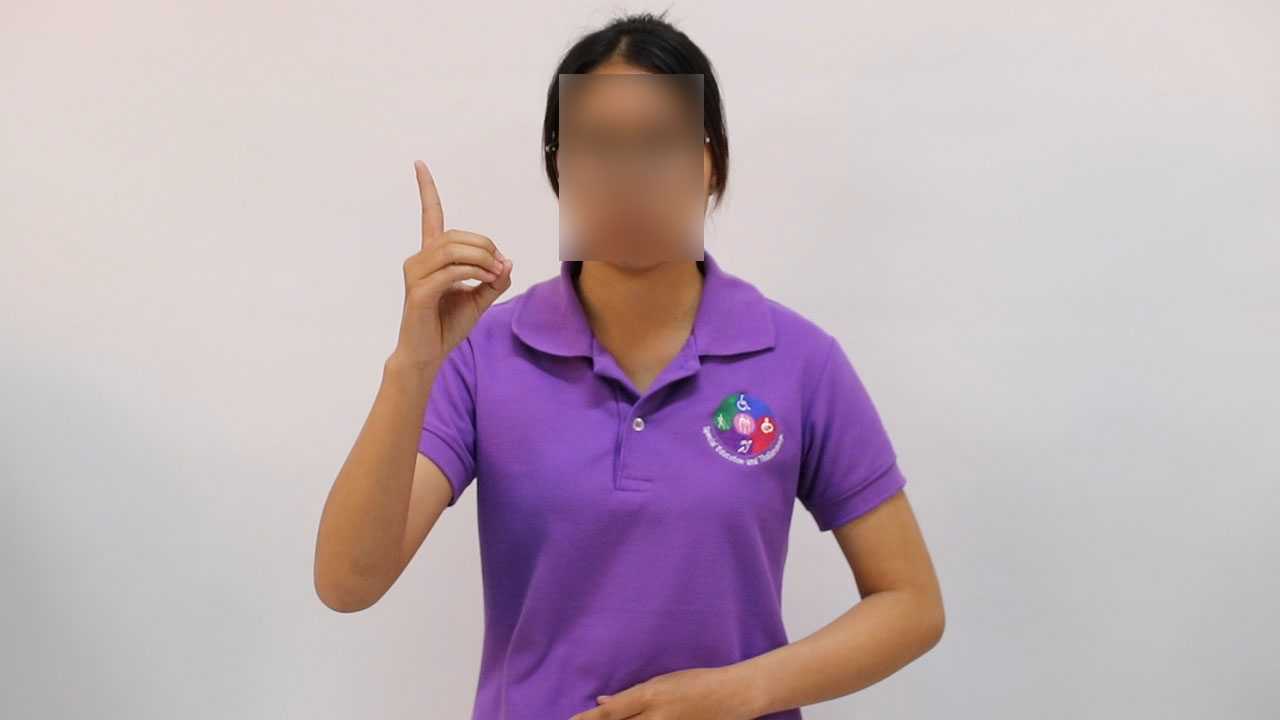dor: (375, 151, 519, 366)
